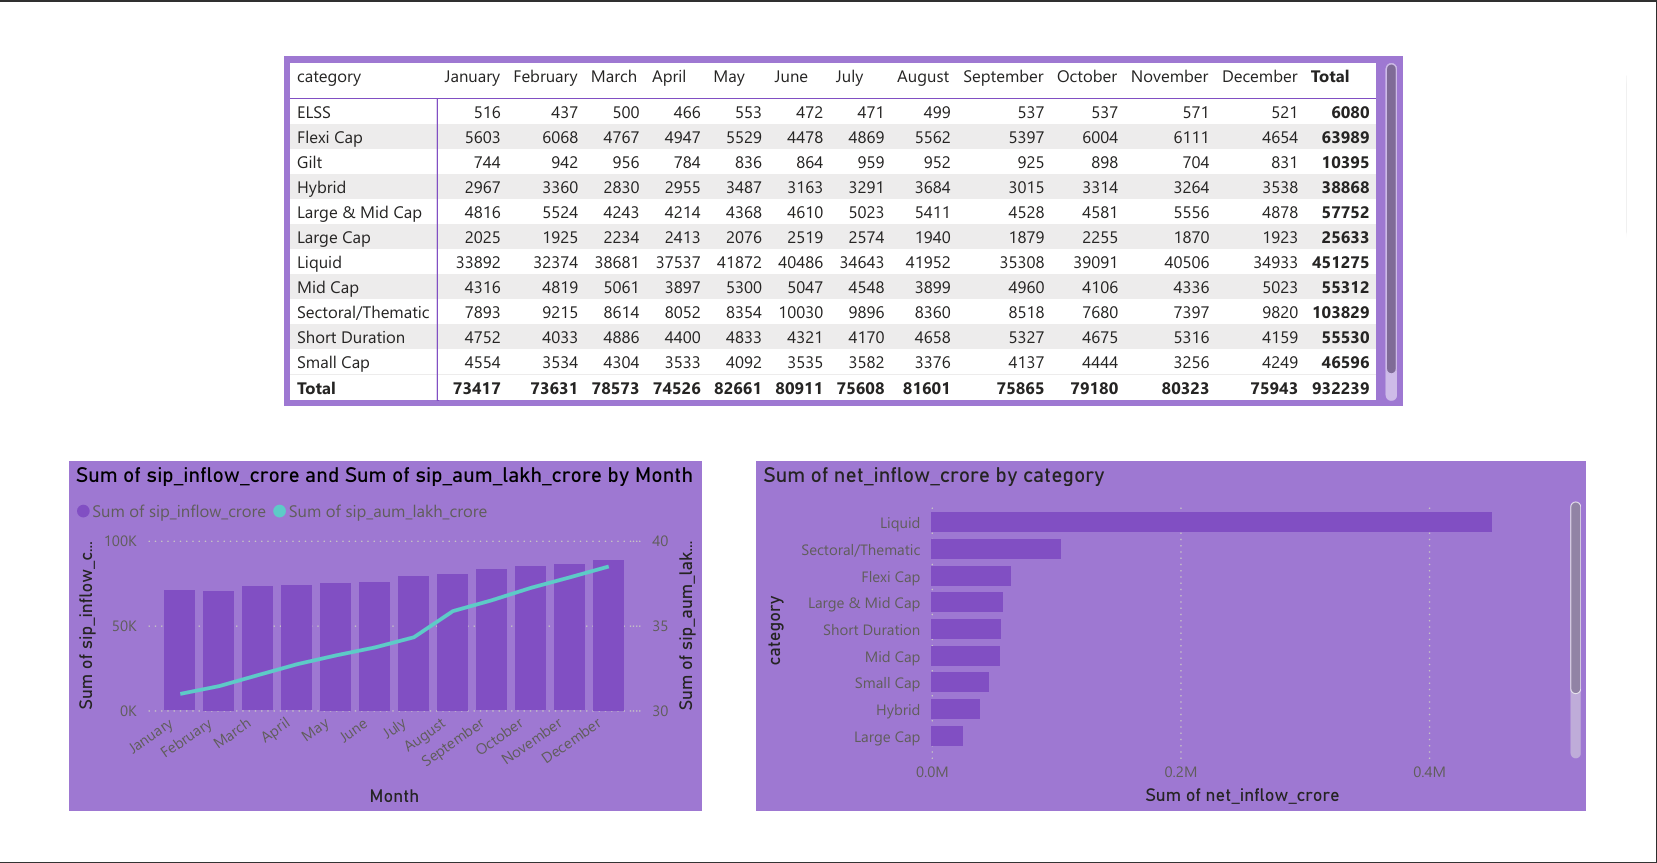

What the dashboard file says about the page in this screenshot:
{"tool":"powerbi","page":{"name":"Line and Column Chart (SIP + Nifty)","canvas":[1280,720],"ordinal":3},"visuals":[{"type":"lineClusteredColumnComboChart","fields":{"Category":["04_monthly_sip_inflows_clean.month.Variation.Date Hierarchy.Month"],"Y":["Sum(04_monthly_sip_inflows_clean.sip_inflow_crore)"],"Y2":["Sum(04_monthly_sip_inflows_clean.sip_aum_lakh_crore)"]},"box":[33.8,343.8,506.2,280],"z":0},{"type":"pivotTable","fields":{"Rows":["05_category_inflows_clean.category"],"Columns":["05_category_inflows_clean.month.Variation.Date Hierarchy.Month"],"Values":["Sum(05_category_inflows_clean.net_inflow_crore)"]},"box":[206.2,20,895,280],"z":1000},{"type":"clusteredBarChart","fields":{"Y":["Sum(05_category_inflows_clean.net_inflow_crore)"],"Category":["05_category_inflows_clean.category"]},"box":[583.8,343.8,663.8,280],"z":2000}]}

Visuals, with their boxes on the page's 1280x720 design canvas (x1, y1, x2, y2). These are canvas units, not pixel positions in the 1657x863 screenshot, which may show the page scaled, cropped or inside an application window:
lineClusteredColumnComboChart - 04_monthly_sip_inflows_clean.month.Variation.Date Hierarchy.Month x Sum(04_monthly_sip_inflows_clean.sip_inflow_crore): detection(34, 344, 540, 624)
pivotTable - 05_category_inflows_clean.category x 05_category_inflows_clean.month.Variation.Date Hierarchy.Month: detection(206, 20, 1101, 300)
clusteredBarChart - Sum(05_category_inflows_clean.net_inflow_crore) x 05_category_inflows_clean.category: detection(584, 344, 1248, 624)
